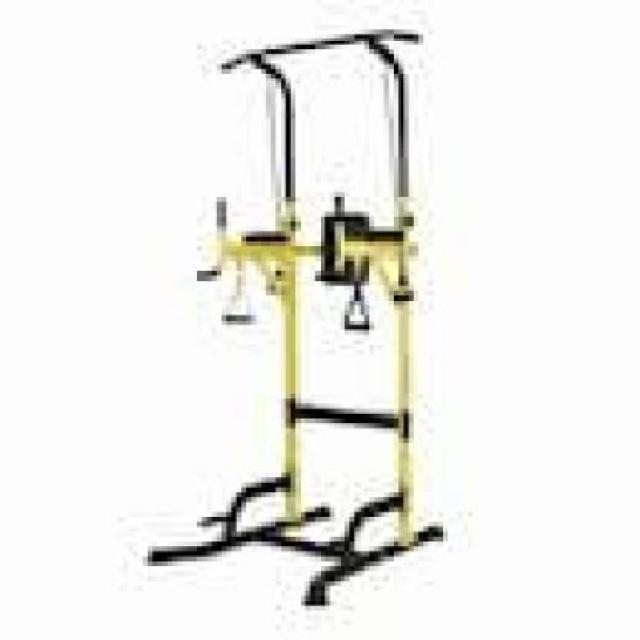chinning dipping: (149, 29, 445, 608)
